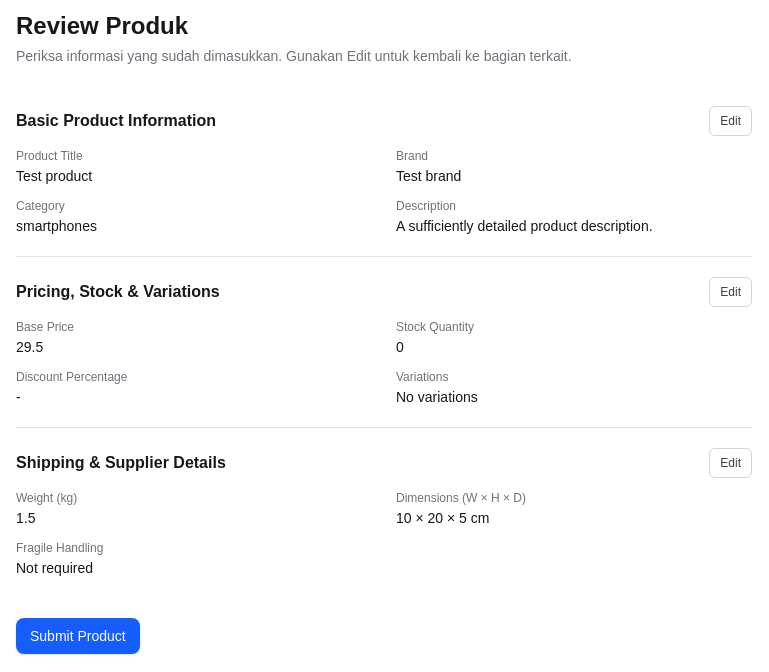
Step4Review › submits the mapped product payload and clears the draft on success
Click the button "Submit Product".
click(78, 636)  # box [16,618,140,654]
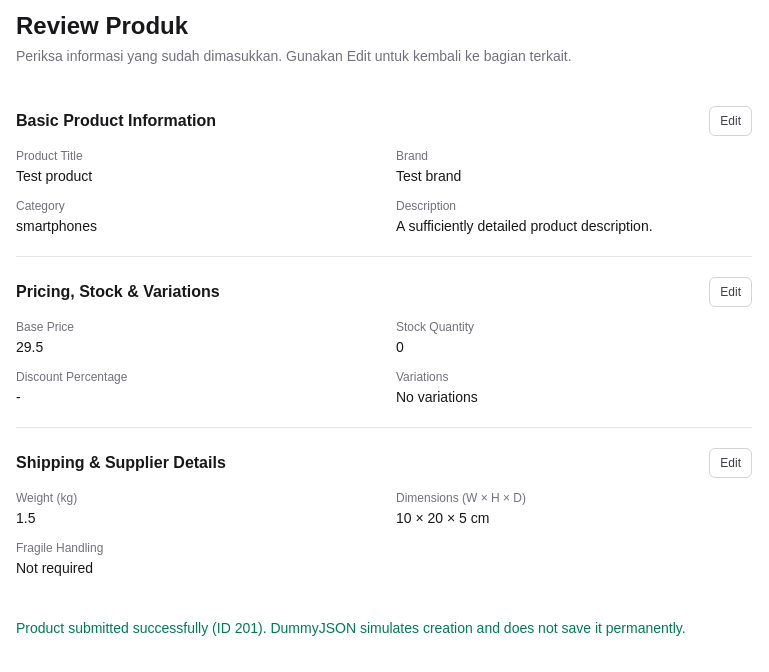
Expected: the message shows "Product submitted successfully (ID 201)", [16,620,686,636]
